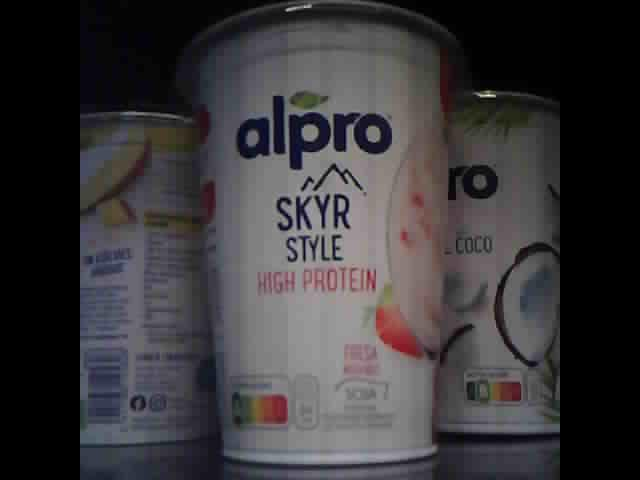alpro: (179, 1, 461, 465), (80, 106, 203, 452), (444, 88, 561, 439)
